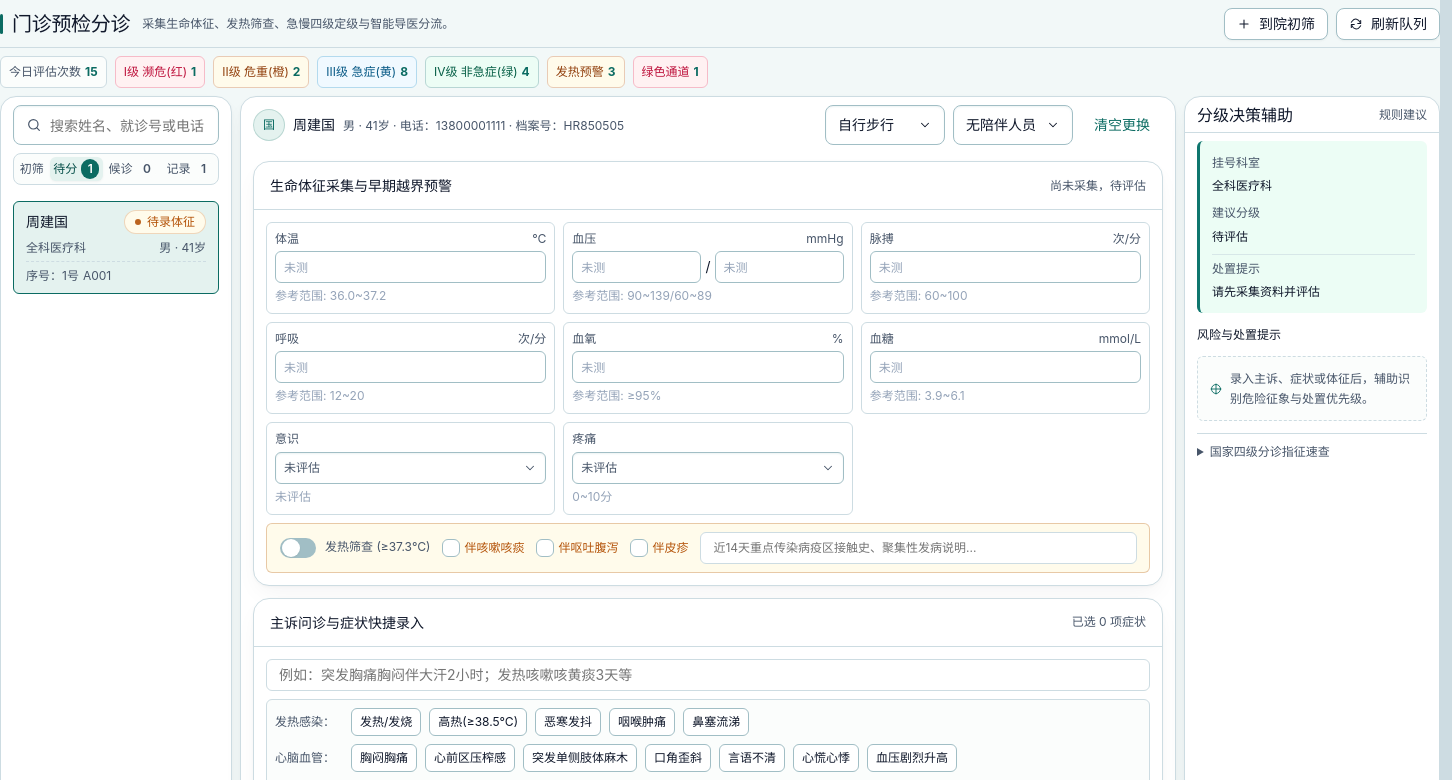
Scenario: OutpatientTriageWorkspace › 体温失焦及其他异常生命体征更新时，应当显示对应预警
The width and height of the screenshot is (1452, 780).
Check: the heading "周建国" is shown, box [293,114,335,135]
Note: 录入体温 39.2℃
Type "39.2" into the number field named "体温" at (411, 267), box [275,251,546,283]
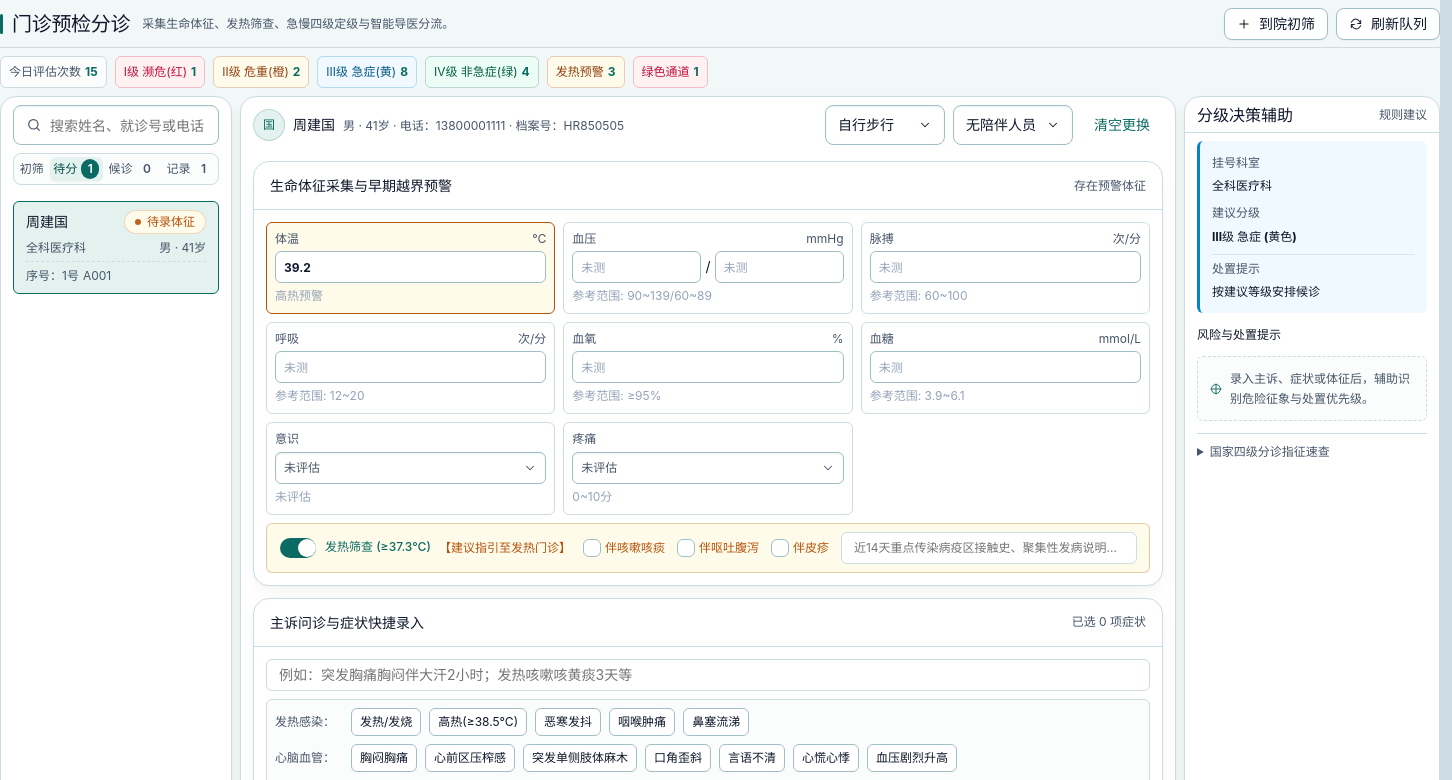
Note: 录入收缩压 185 mmHg
Type "185" into the number field named "收缩压" at (637, 267), box [572,251,701,283]
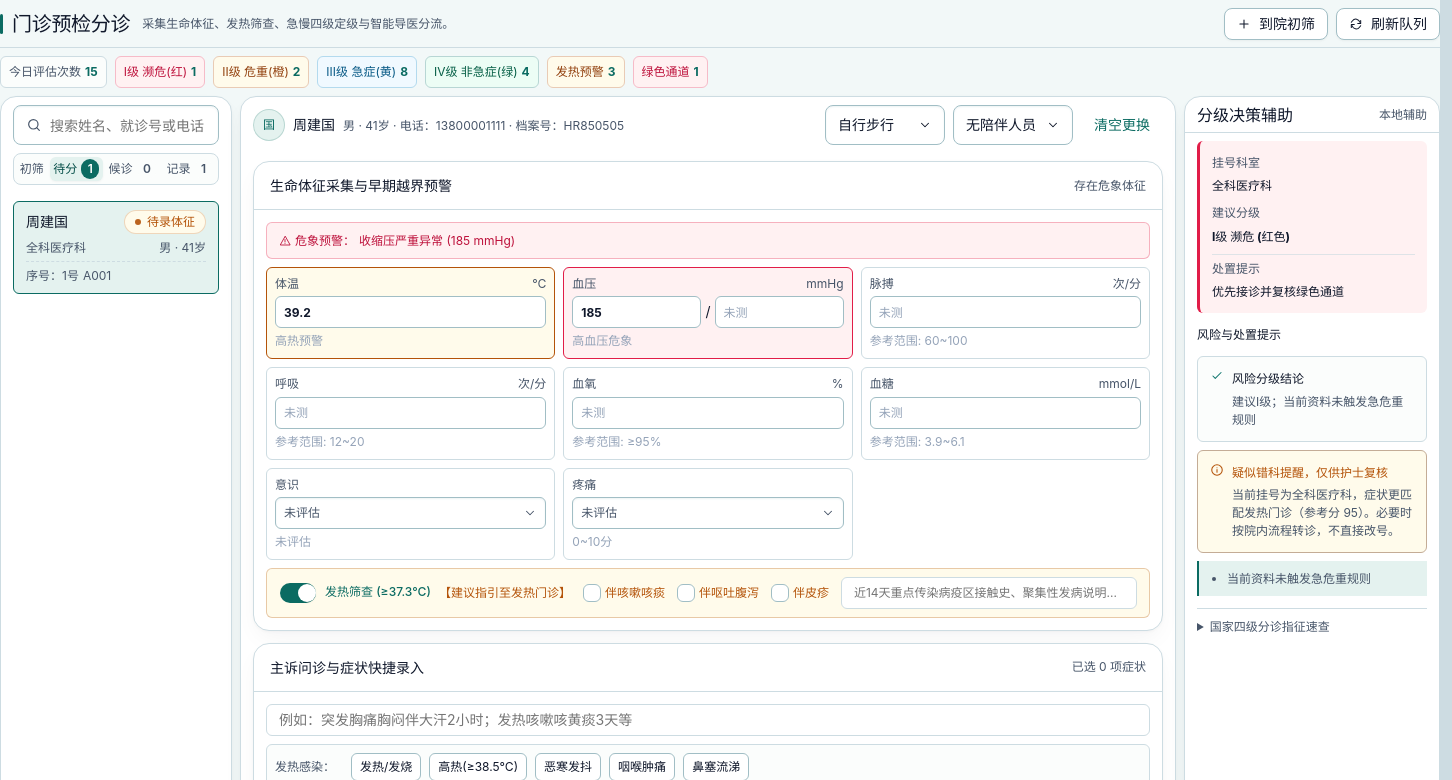
Check: the text "高热预警" is shown, box [275,333,323,348]
Check: the text "高血压危象" is shown, box [572,333,632,348]
